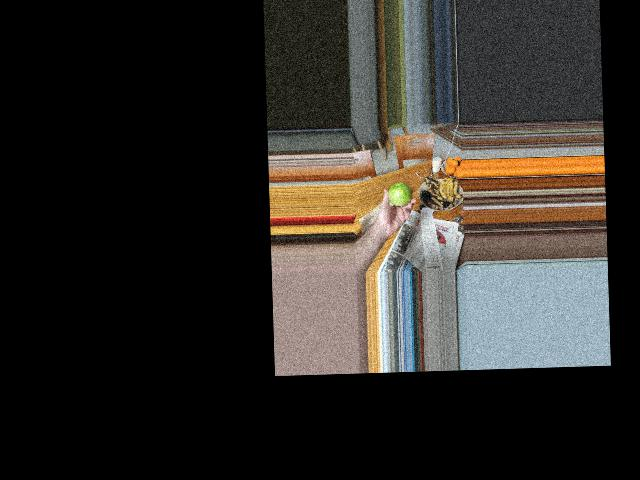apple: (388, 181, 412, 208)
